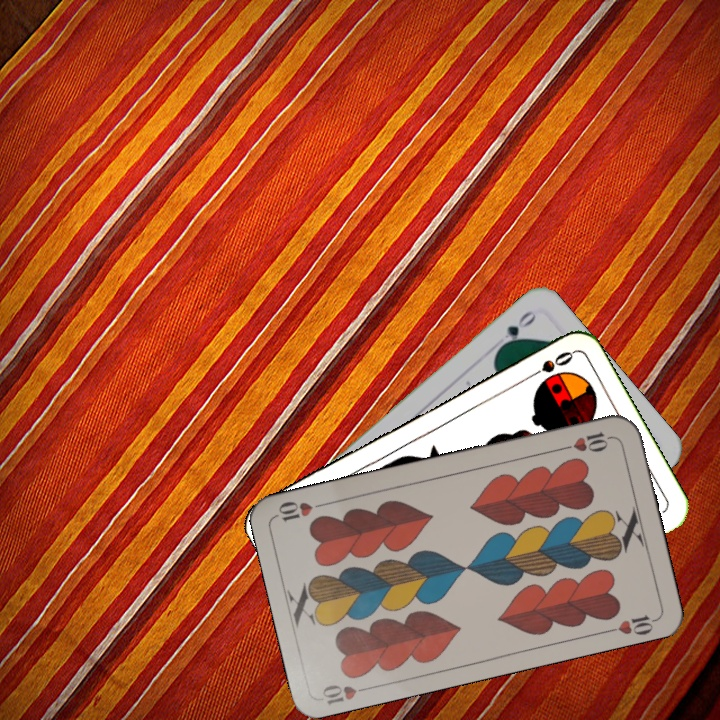GO: (494, 306, 539, 353)
H10: (556, 428, 615, 455), (318, 680, 376, 707)
SO: (521, 347, 576, 383)
